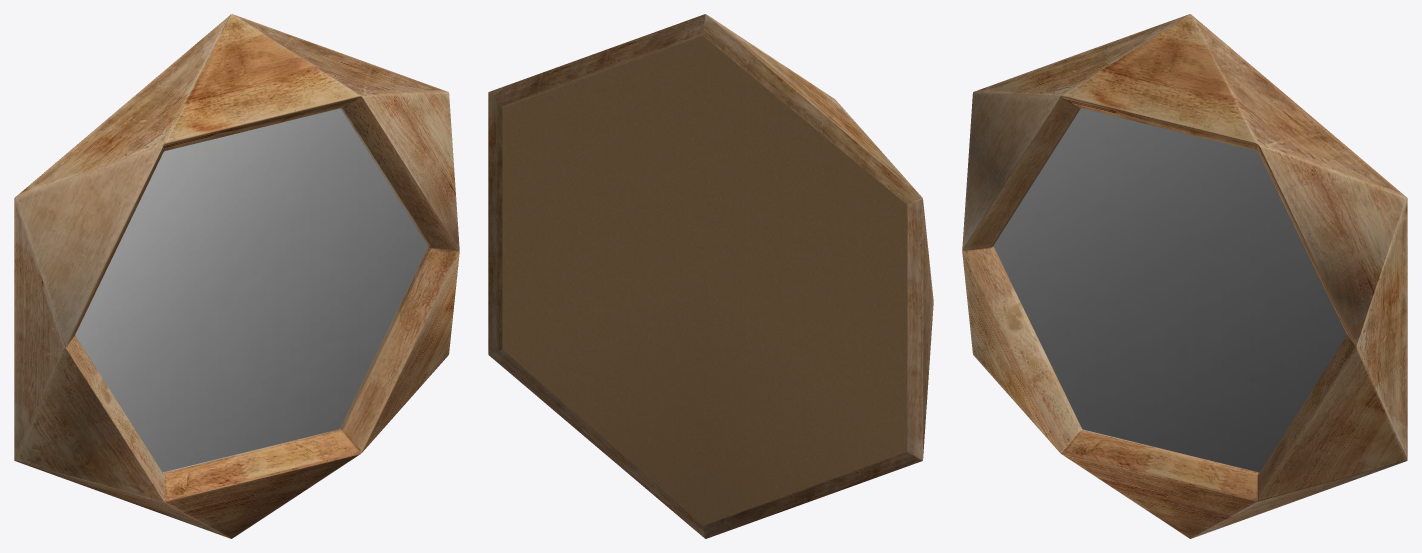
The model's file is B073WHZKBF.glb.
3 renders of one model, left to right at view 1: azimuth 30°, elevation 25°; view 2: azimuth 150°, elevation 25°; view 3: azimuth 330°, elevation 25°, orthographic.
Parts seen in each view (by area): view 1: RootNode; view 2: RootNode; view 3: RootNode.
Part boxes in pixels (<box>): RootNode: <box>14,14,459,538</box>; RootNode: <box>488,14,933,538</box>; RootNode: <box>962,14,1407,538</box>.
Size of the model in its own units: 0.6751 by 0.7788 by 0.091.
Materials: 1 (1 with a texture image).
